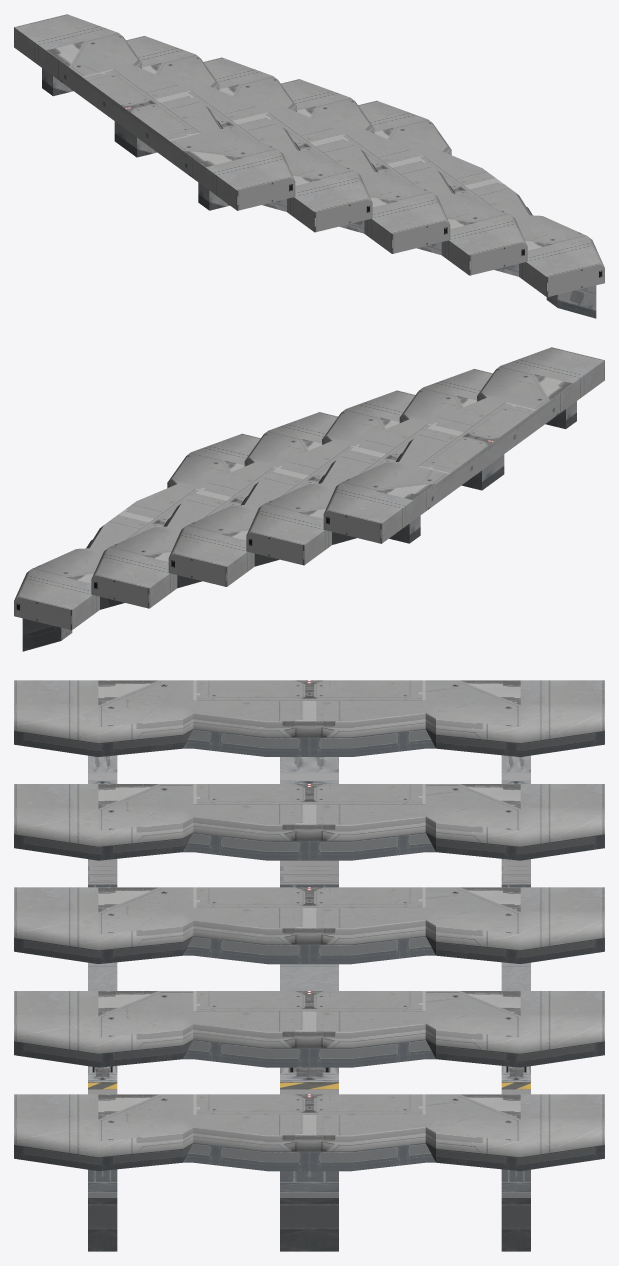
Rendered from SM_stairS2c.fbx.
3 renders of one model, top to bottom at view 1: azimuth 30°, elevation 25°; view 2: azimuth 150°, elevation 25°; view 3: azimuth 270°, elevation 25°, orthographic. The views are drawn at different scales.
Parts seen in each view (by area): view 1: SM_stairS2c_LOD0; view 2: SM_stairS2c_LOD0; view 3: SM_stairS2c_LOD0.
Part boxes in pixels (<box>): SM_stairS2c_LOD0: <box>14,14,604,318</box>; SM_stairS2c_LOD0: <box>14,347,604,651</box>; SM_stairS2c_LOD0: <box>14,680,604,1251</box>.
Bounding box in the file's own units: 200 × 200 × 120.
Materials: 4 (4 with a texture image).
